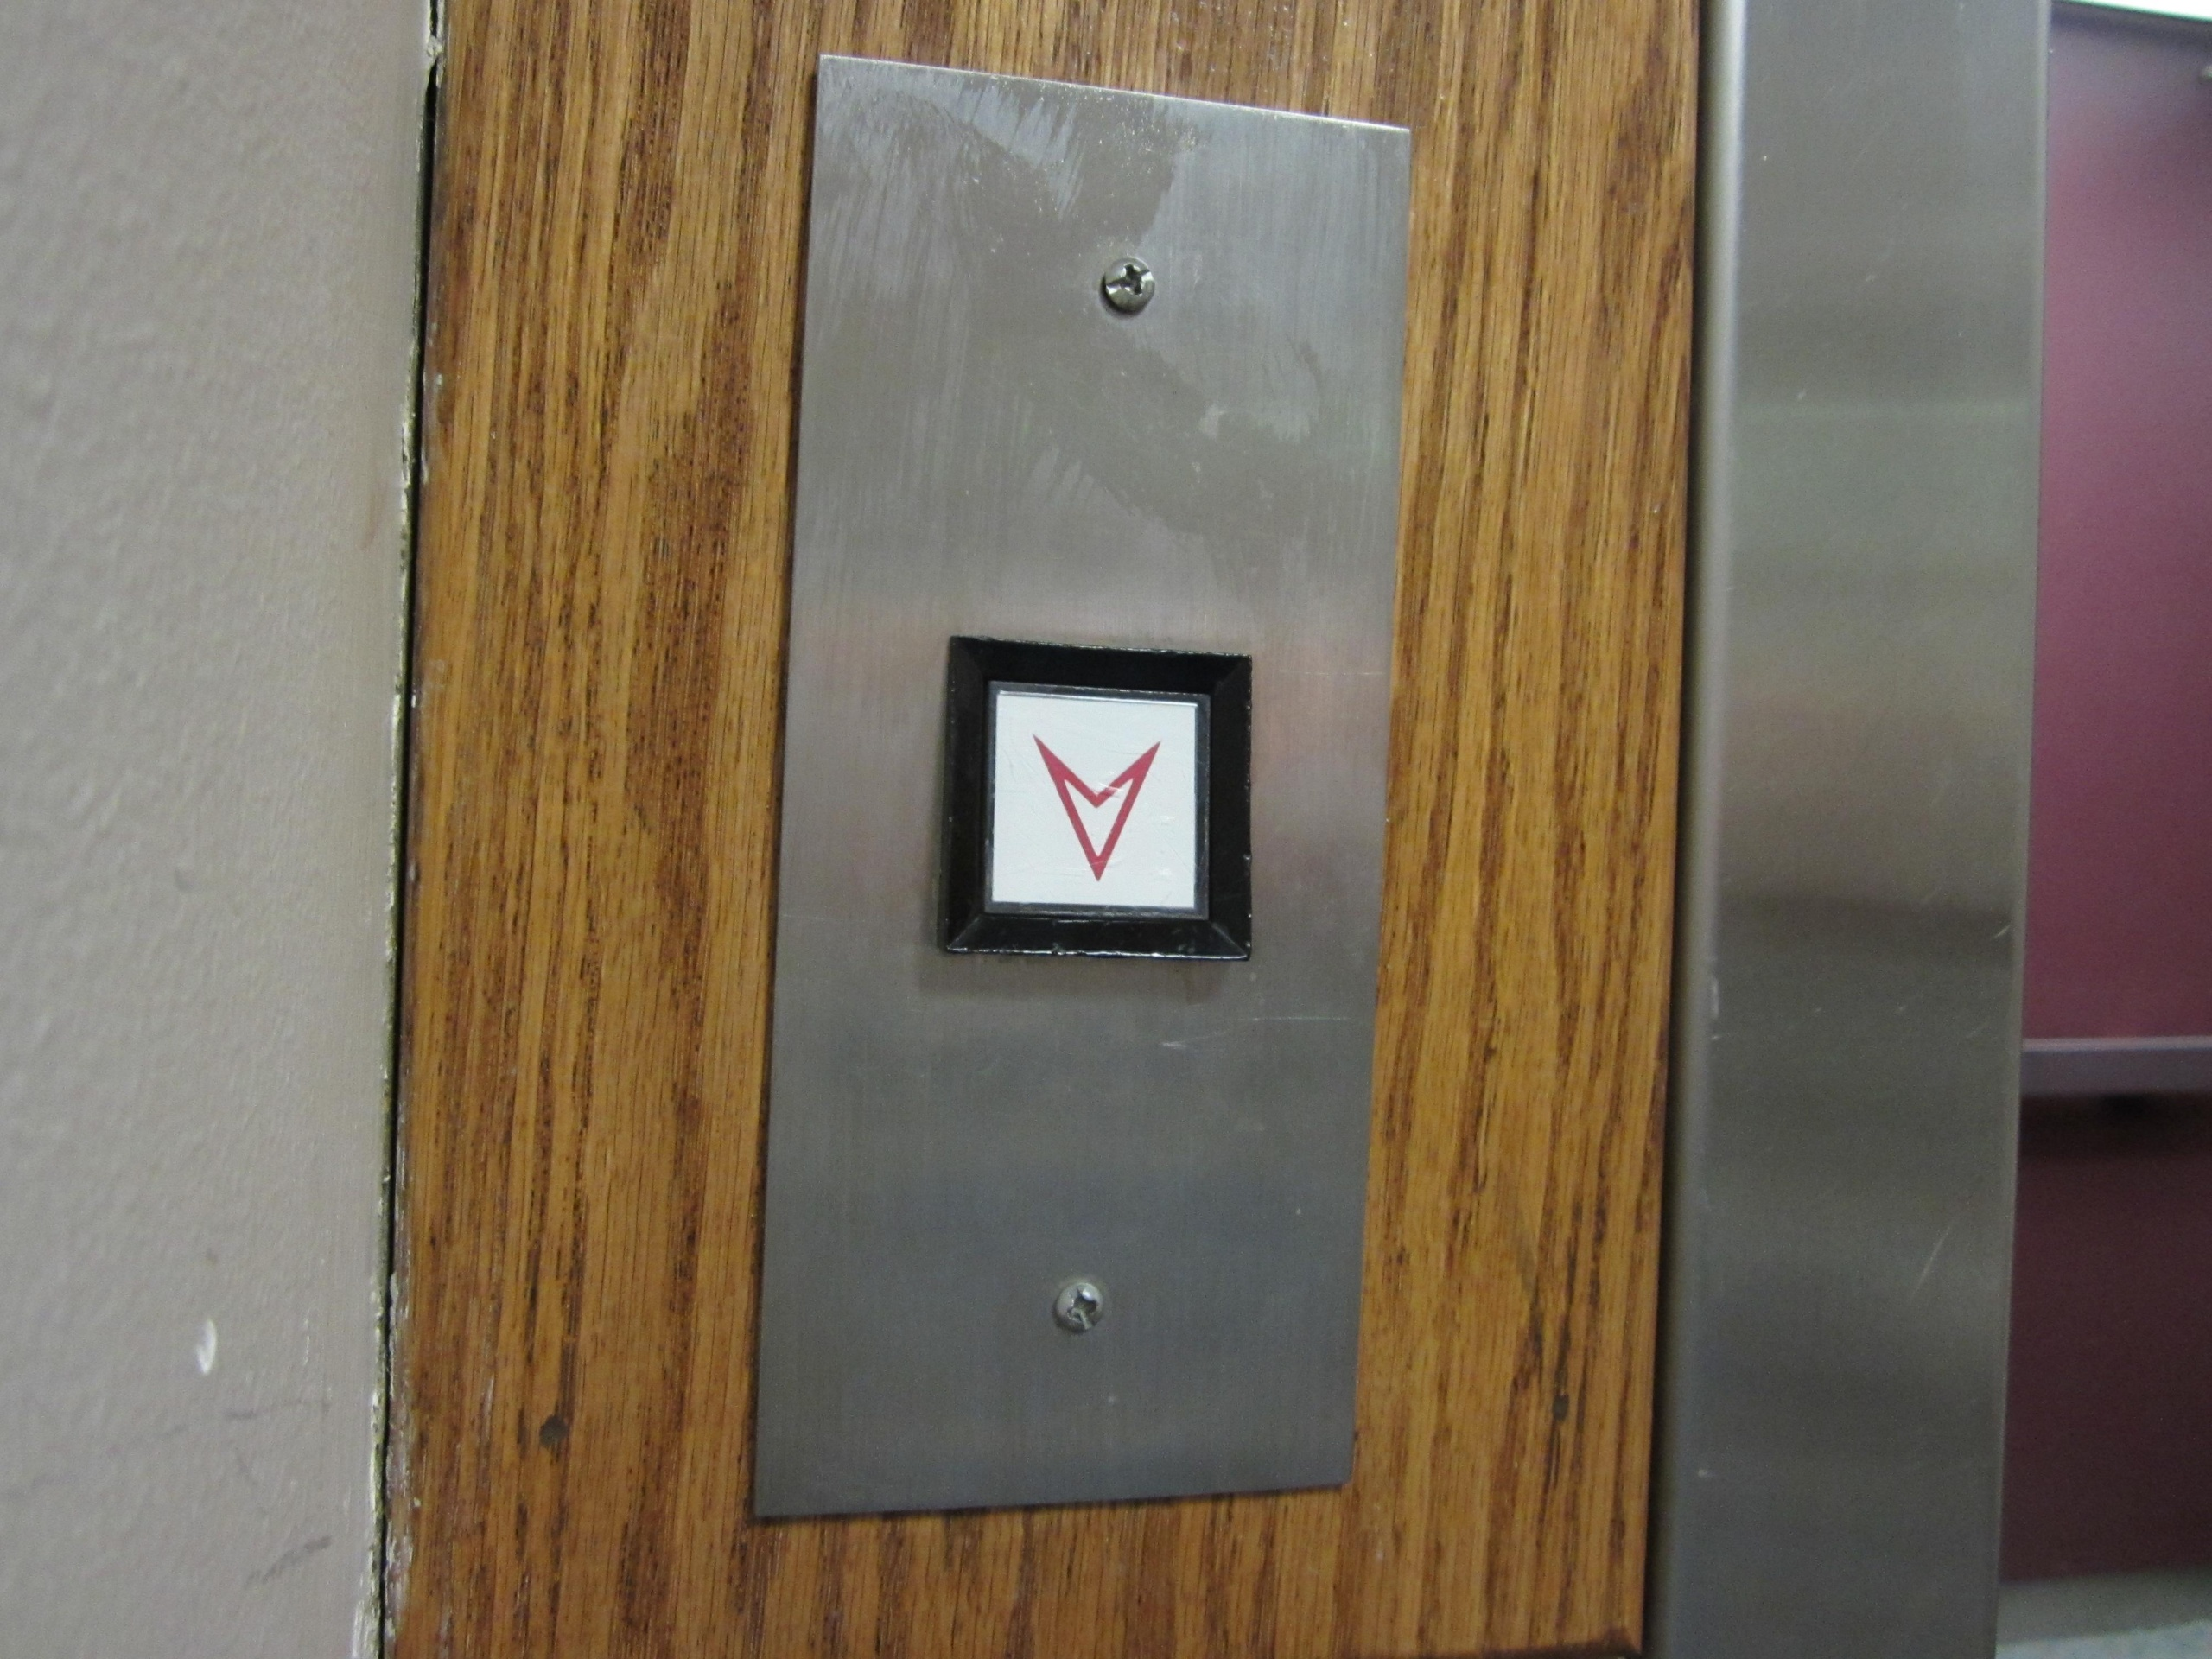down: (927, 620, 1266, 986)
